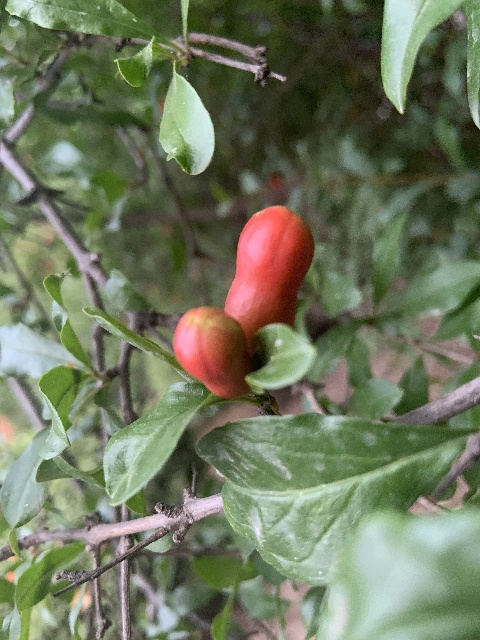bud: (224, 205, 314, 347), (173, 306, 254, 399)
